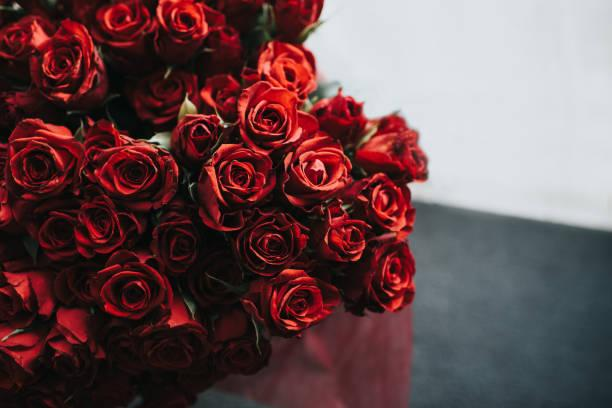organic: (0, 0, 444, 408)
